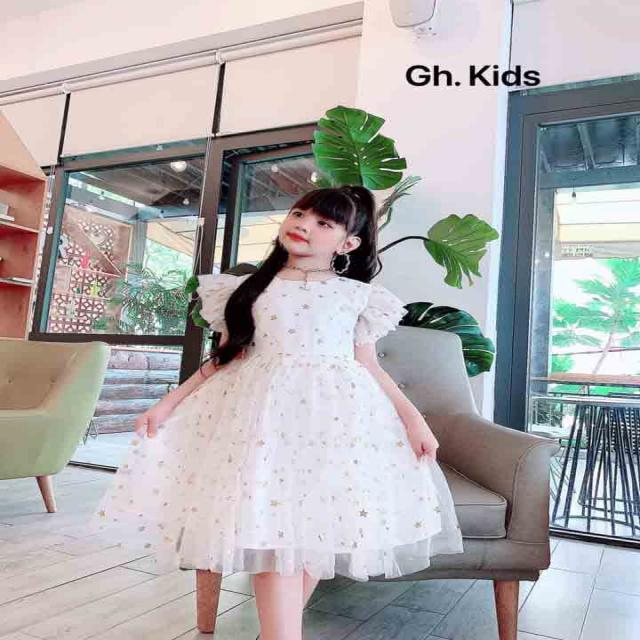clothes: (150, 269, 459, 595)
